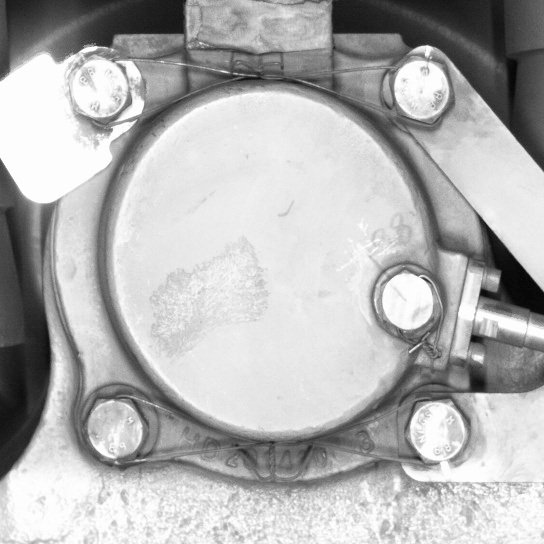IronWire: (71, 384, 477, 476), (57, 42, 462, 134)
Screw: (375, 41, 462, 134), (392, 387, 476, 472), (57, 42, 136, 130), (73, 388, 151, 473), (369, 261, 440, 342)
